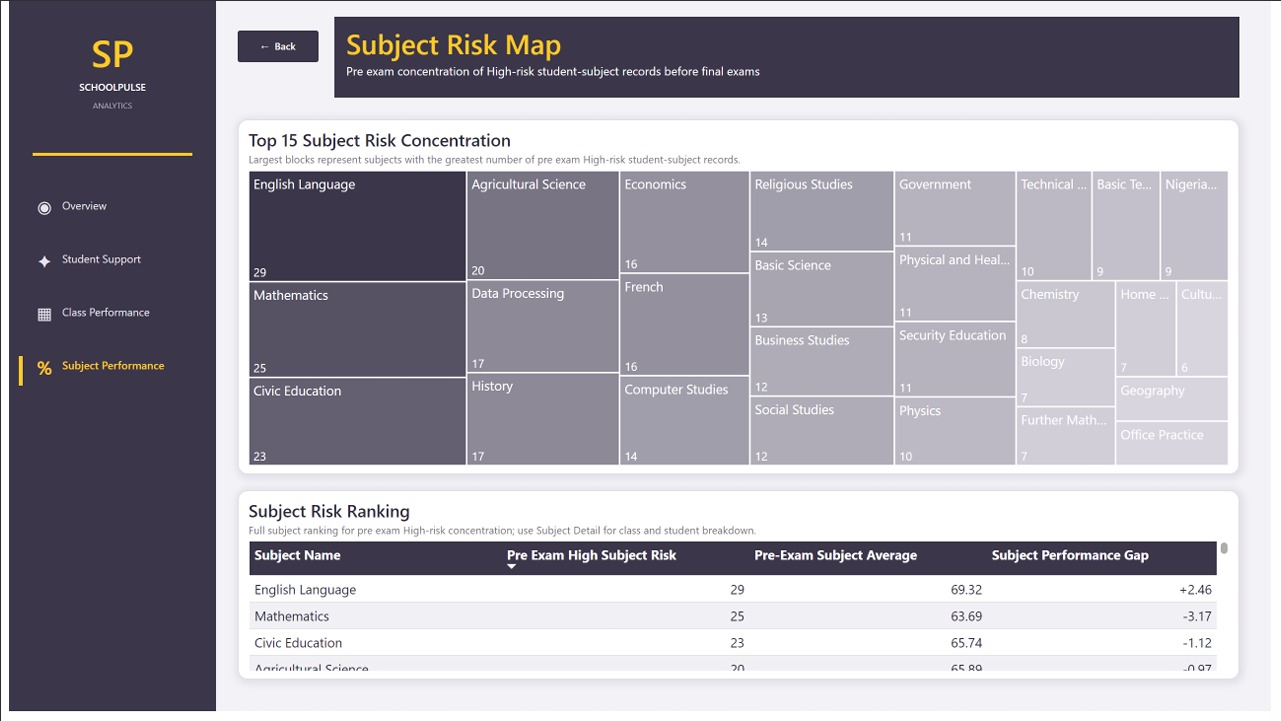

The page's visual inventory and layout, read from the dashboard file:
{"tool":"powerbi","page":{"name":"Subject Risk Map","canvas":[1280,720],"ordinal":9},"visuals":[{"type":"shape","box":[0,0,210,720],"z":0},{"type":"textbox","box":[28,26,154,108],"z":1000},{"type":"shape","box":[24,154,162,3],"z":2000},{"type":"shape","box":[10,360,4,30],"z":3000},{"type":"textbox","box":[22,359,28,30],"z":4000},{"type":"textbox","box":[22,197,28,30],"z":5000},{"type":"textbox","box":[22,251,28,30],"z":7000},{"type":"textbox","box":[22,305,28,30],"z":8000},{"type":"textbox","box":[54,251,142,30],"z":9000},{"type":"textbox","box":[54,197,142,30],"z":10000},{"type":"textbox","box":[54,305,142,30],"z":11000},{"type":"textbox","box":[54,359,142,30],"z":12000},{"type":"actionButton","box":[14,190,182,46],"z":14000},{"type":"actionButton","box":[14,244,182,46],"z":15000},{"type":"actionButton","box":[14,298,182,46],"z":16000},{"type":"actionButton","box":[14,352,182,46],"z":17000},{"type":"shape","box":[232,30,82,32],"z":70000},{"type":"textbox","box":[232,35,82,22],"z":70001},{"type":"actionButton","box":[232,30,82,32],"z":70002},{"type":"textbox","box":[330,16,918,82],"z":72000},{"type":"treemap","title":"Top 15 Subject Risk Concentration","fields":{"Group":["Pre-Exam Subject Trend.Subject Name"],"Values":["Student Overview.March-End High Subject Risk"]},"box":[232,120,1016,360],"z":72100},{"type":"tableEx","title":"Subject Risk Ranking","fields":{"Values":["Pre-Exam Subject Trend.Subject Name","Student Overview.March-End High Subject Risk","Student Overview.Pre-Exam Subject Average","Student Overview.Subject Performance Gap"]},"box":[232,496,1016,192],"z":72200}]}

Visuals, with their boxes on the page's 1280x720 design canvas (x1, y1, x2, y2). These are canvas units, not pixel positions in the 1281x721 screenshot, which may show the page scaled, cropped or inside an application window:
shape: x1=0, y1=0, x2=210, y2=720
textbox: x1=28, y1=26, x2=182, y2=134
shape: x1=24, y1=154, x2=186, y2=157
shape: x1=10, y1=360, x2=14, y2=390
textbox: x1=22, y1=359, x2=50, y2=389
textbox: x1=22, y1=197, x2=50, y2=227
textbox: x1=22, y1=251, x2=50, y2=281
textbox: x1=22, y1=305, x2=50, y2=335
textbox: x1=54, y1=251, x2=196, y2=281
textbox: x1=54, y1=197, x2=196, y2=227
textbox: x1=54, y1=305, x2=196, y2=335
textbox: x1=54, y1=359, x2=196, y2=389
actionButton: x1=14, y1=190, x2=196, y2=236
actionButton: x1=14, y1=244, x2=196, y2=290
actionButton: x1=14, y1=298, x2=196, y2=344
actionButton: x1=14, y1=352, x2=196, y2=398
shape: x1=232, y1=30, x2=314, y2=62
textbox: x1=232, y1=35, x2=314, y2=57
actionButton: x1=232, y1=30, x2=314, y2=62
textbox: x1=330, y1=16, x2=1248, y2=98
"Top 15 Subject Risk Concentration" treemap: x1=232, y1=120, x2=1248, y2=480
"Subject Risk Ranking" tableEx: x1=232, y1=496, x2=1248, y2=688
